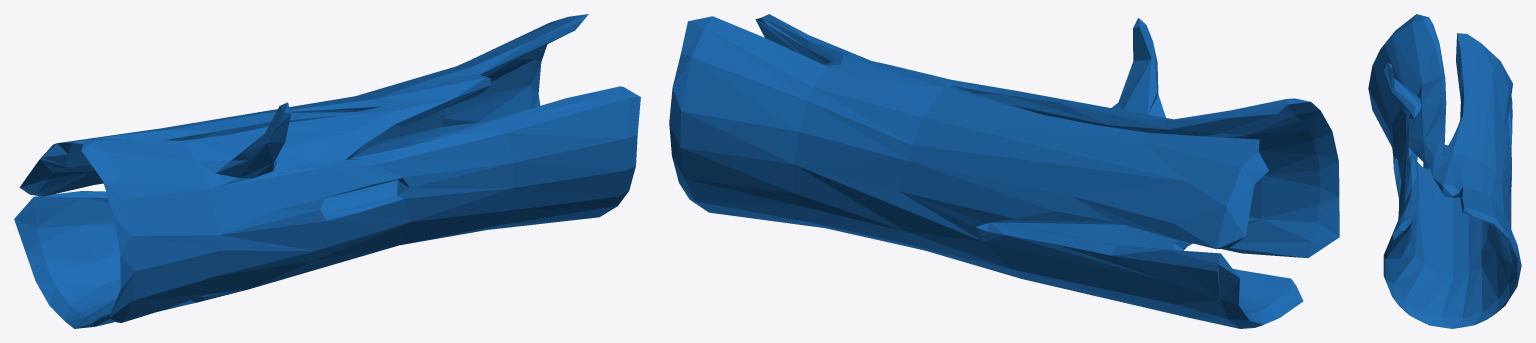
File: SM_RottingLog_V1.FBX
3 renders of one model, left to right at view 1: azimuth 30°, elevation 25°; view 2: azimuth 150°, elevation 25°; view 3: azimuth 270°, elevation 25°, orthographic. The views are drawn at different scales.
Visible parts, largest first — view 1: RottingLog; view 2: RottingLog; view 3: RottingLog.
Boxes of the visible parts, x1,y1,x2,y2 form: RottingLog: (14, 14, 640, 328); RottingLog: (669, 14, 1339, 328); RottingLog: (1368, 14, 1521, 328).
Bounding box in the file's own units: 122 × 47.48 × 43.17.
